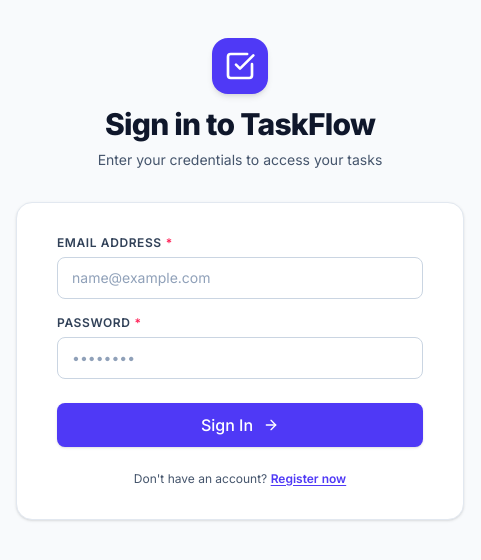
Test: Component Test: LoginPage Form Validation › displays error when an invalid email format is entered
The image size is (481, 560).
Type "invalid-email-format" into the field labelled "Email Address*".
click(240, 278); type("invalid-email-format")  # box [57, 256, 423, 298]
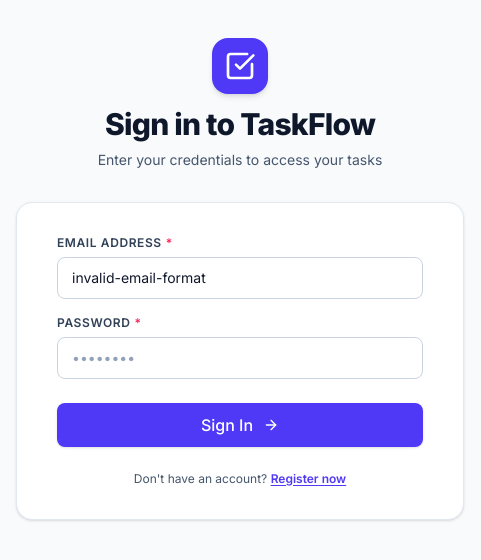
Click the button "Sign In".
click(240, 424)  # box [57, 402, 423, 446]
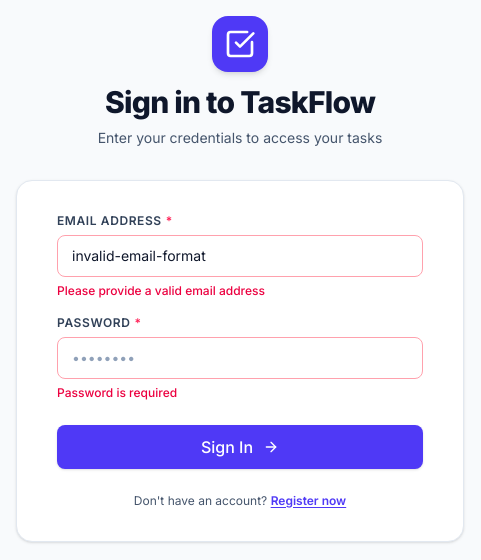
Check: the text "Please provide a valid email address" is shown, box [57, 282, 265, 298]
